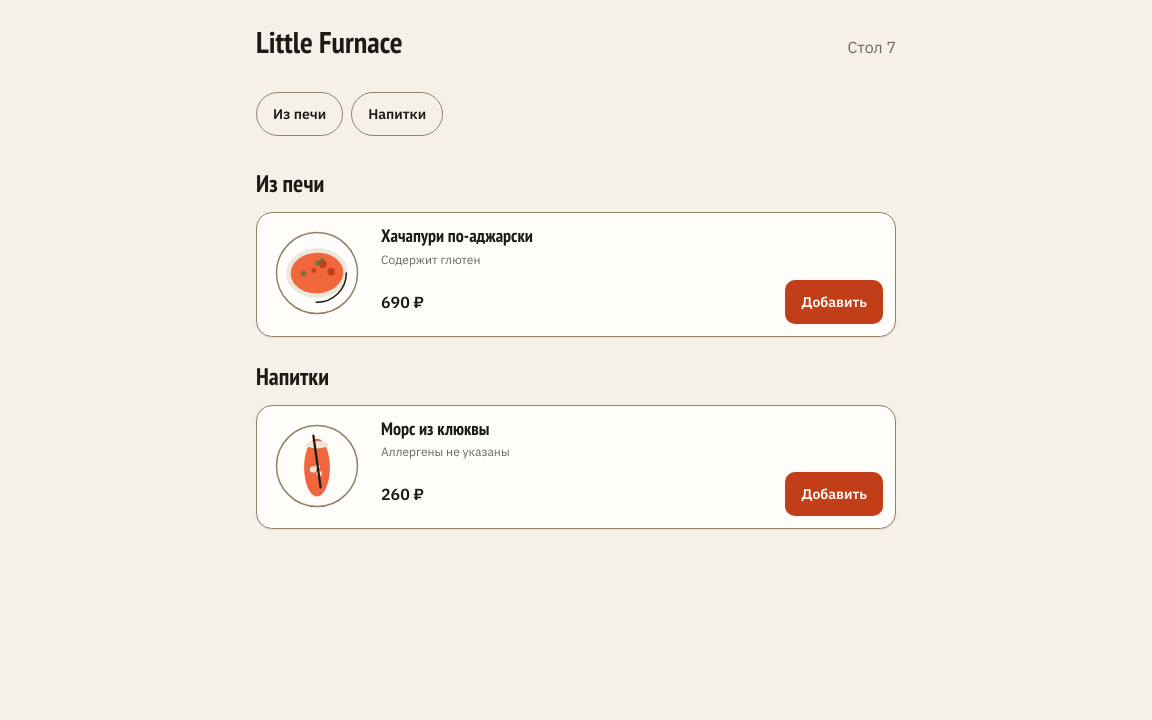
Test: MenuScreen › renders sections with navigation, builds a basket and opens the sheet
The image size is (1152, 720).
Expected: the heading "Little Furnace" is shown, x1=256 y1=24 x2=403 y2=60
Expected: the text "Стол 7" is shown, x1=847 y1=35 x2=896 y2=59
Click the button "Добавить" in the row of "690 ₽" at [834, 302], box x1=786 y1=280 x2=883 y2=324
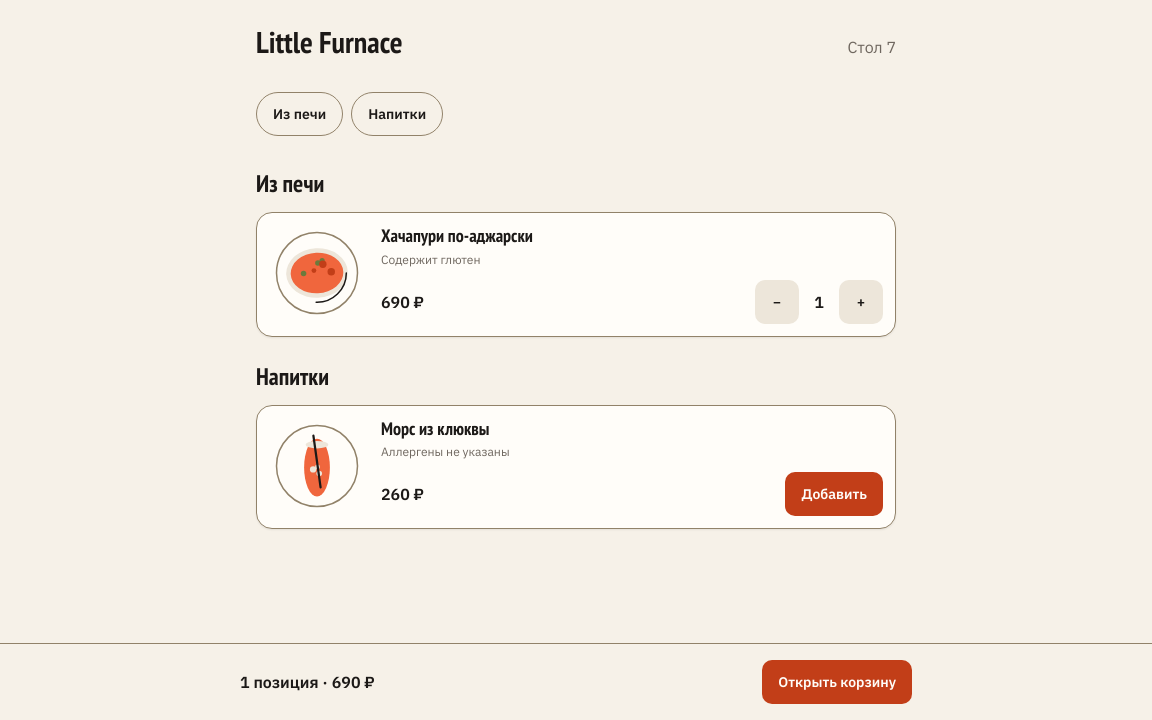
Click the button "+" at [861, 302], box x1=839 y1=280 x2=883 y2=324
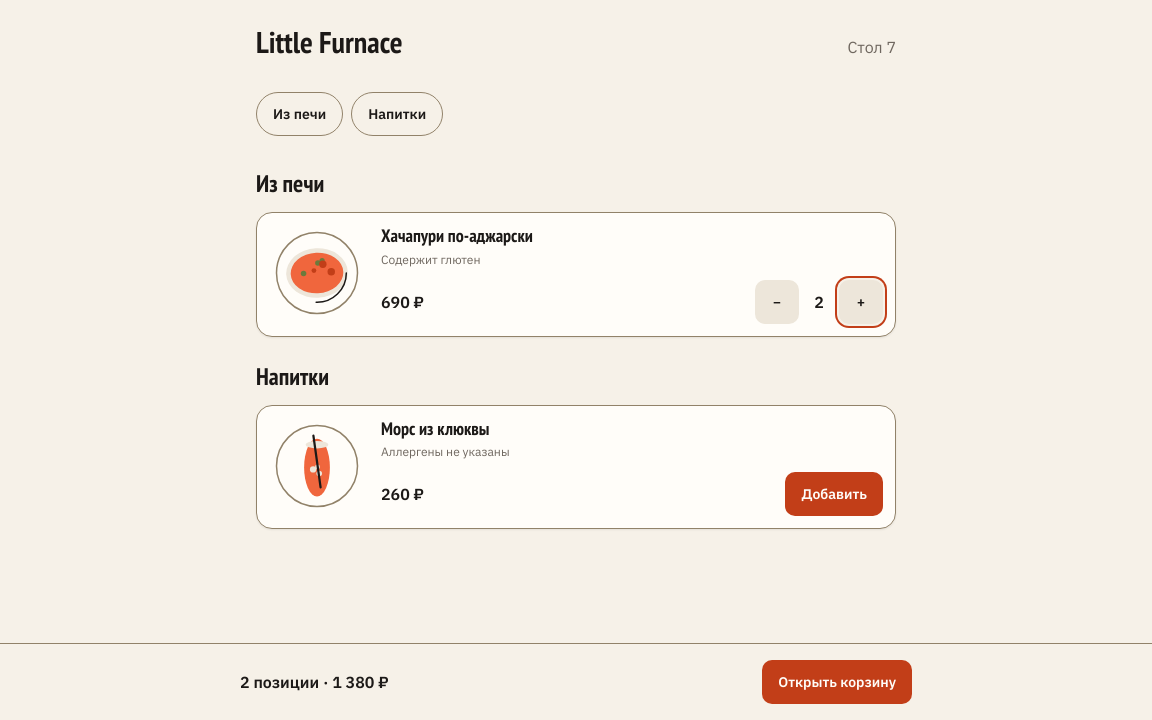
Click the button "Добавить" at [834, 494], box x1=786 y1=472 x2=883 y2=516
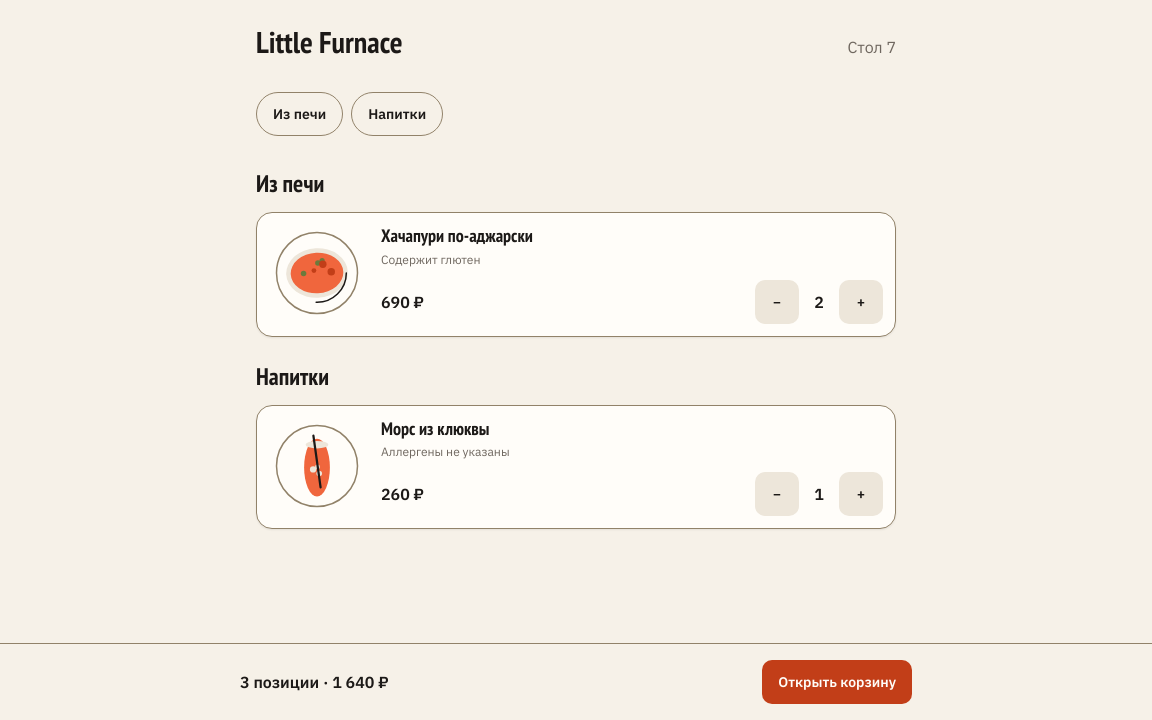
Click the button "Открыть корзину" at [837, 682], box x1=762 y1=660 x2=912 y2=704
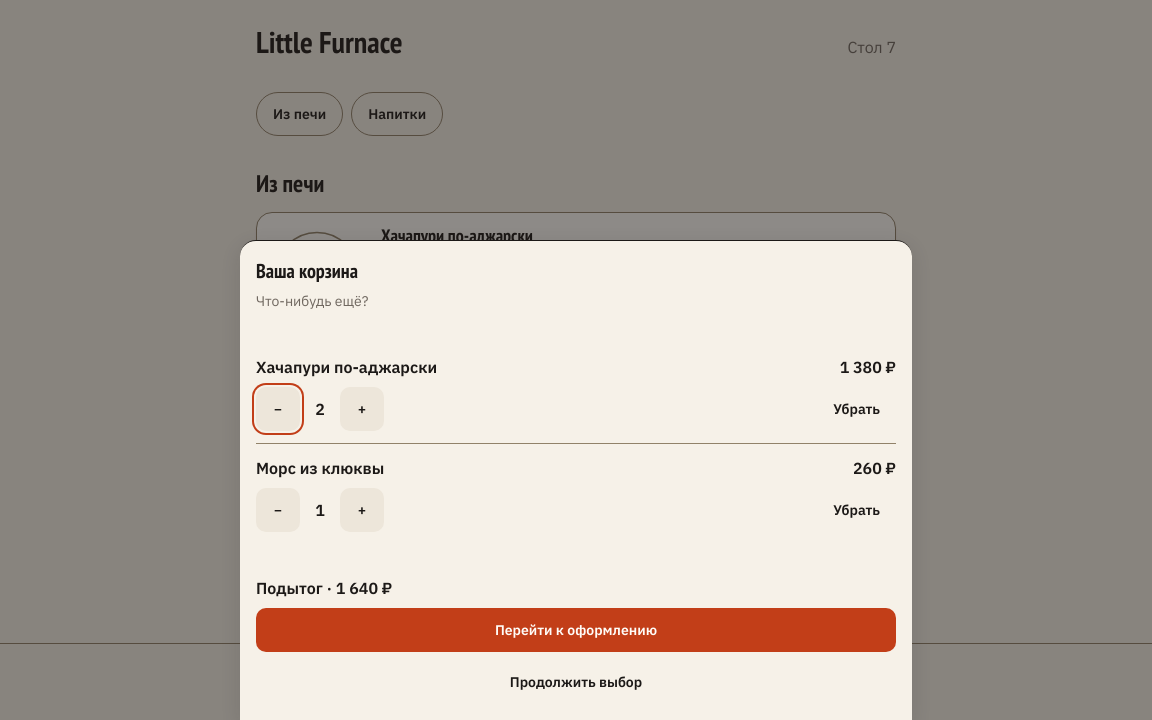
Now the dialog "Ваша корзина" is shown, box x1=240 y1=240 x2=912 y2=719
